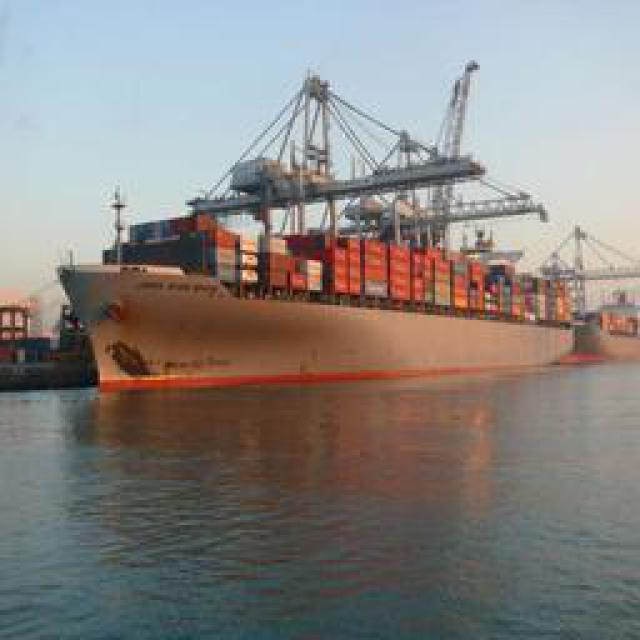Ship: (62, 58, 620, 383)
